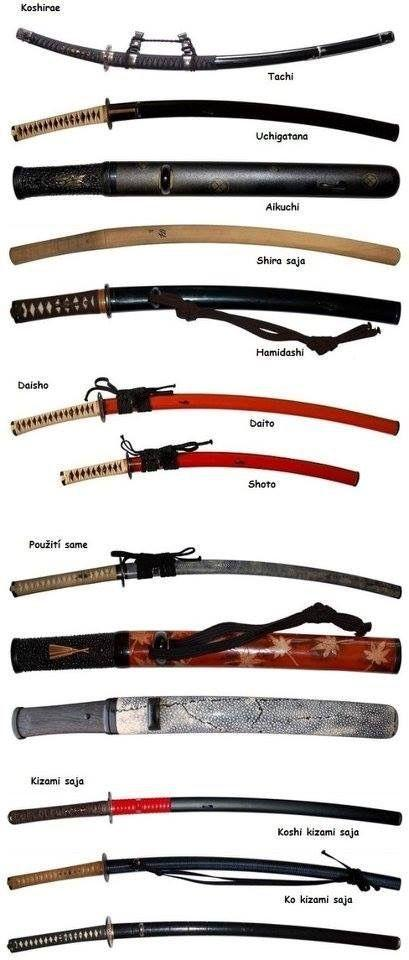espada: (7, 781, 400, 852), (0, 382, 409, 449), (17, 20, 393, 84), (9, 545, 400, 606), (0, 96, 401, 147), (8, 856, 409, 903), (0, 906, 403, 952), (80, 450, 367, 493)
